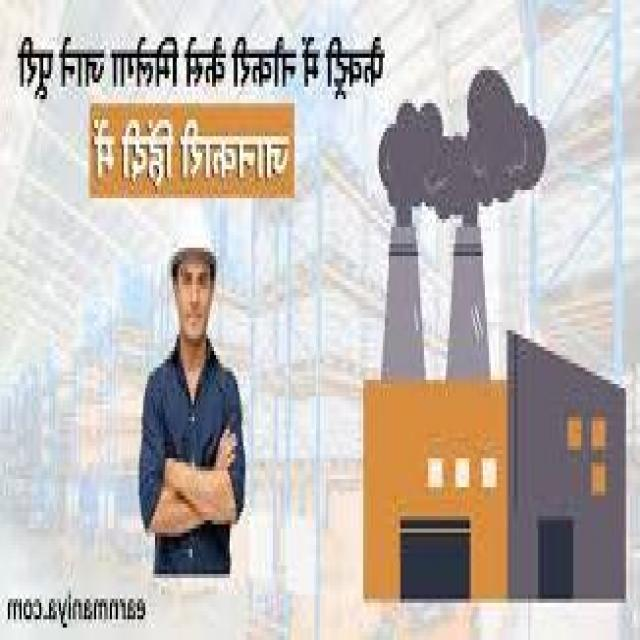Safety-Helmet: (159, 194, 220, 273)
